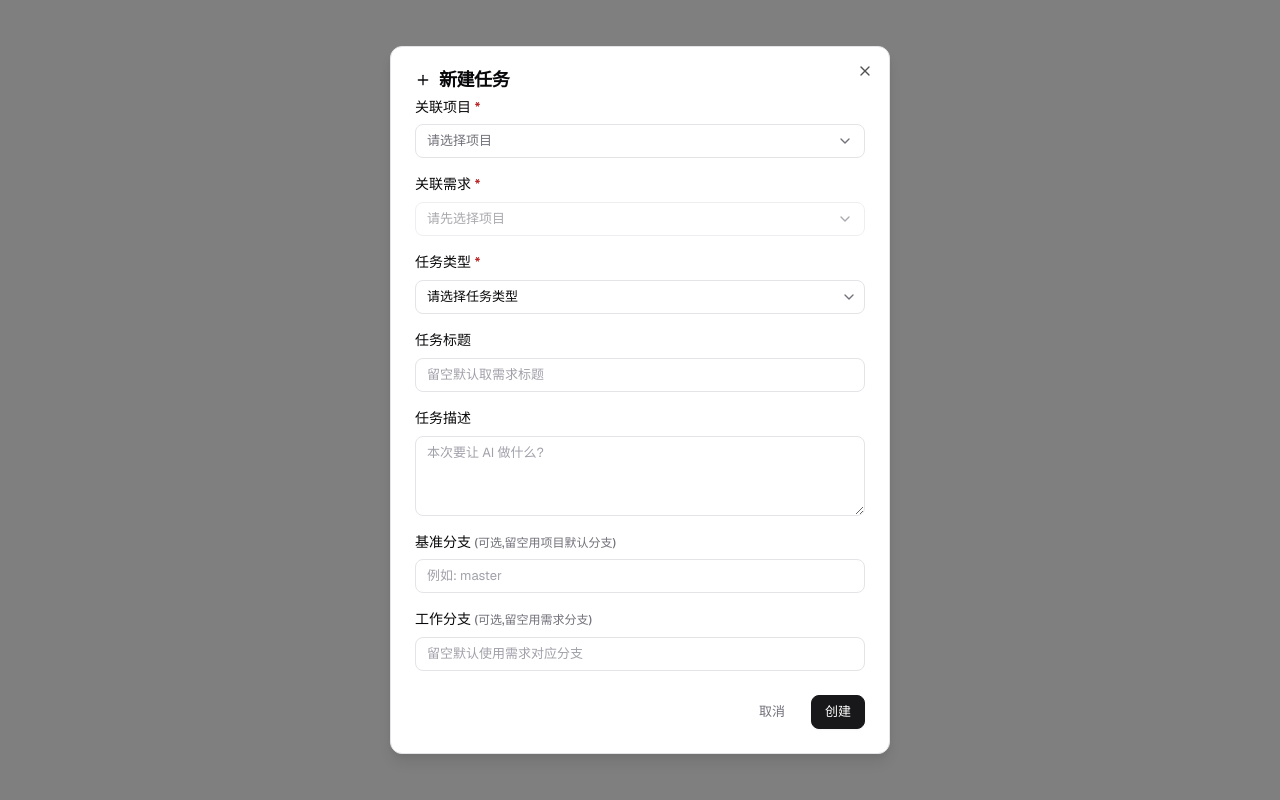
it: R3.2 可搜索的项目与需求选择器(TaskCreateDialog) › 判据1 项目选择器:输入关键词 debounce 后走后端搜索接口并更新列表
Expected: the text "关联项目" is shown, [415,98,474,116]
Expected: the text "请选择项目" is shown, [427,131,492,151]
Click the button "请选择项目": (460, 141) [415,124,865,158]
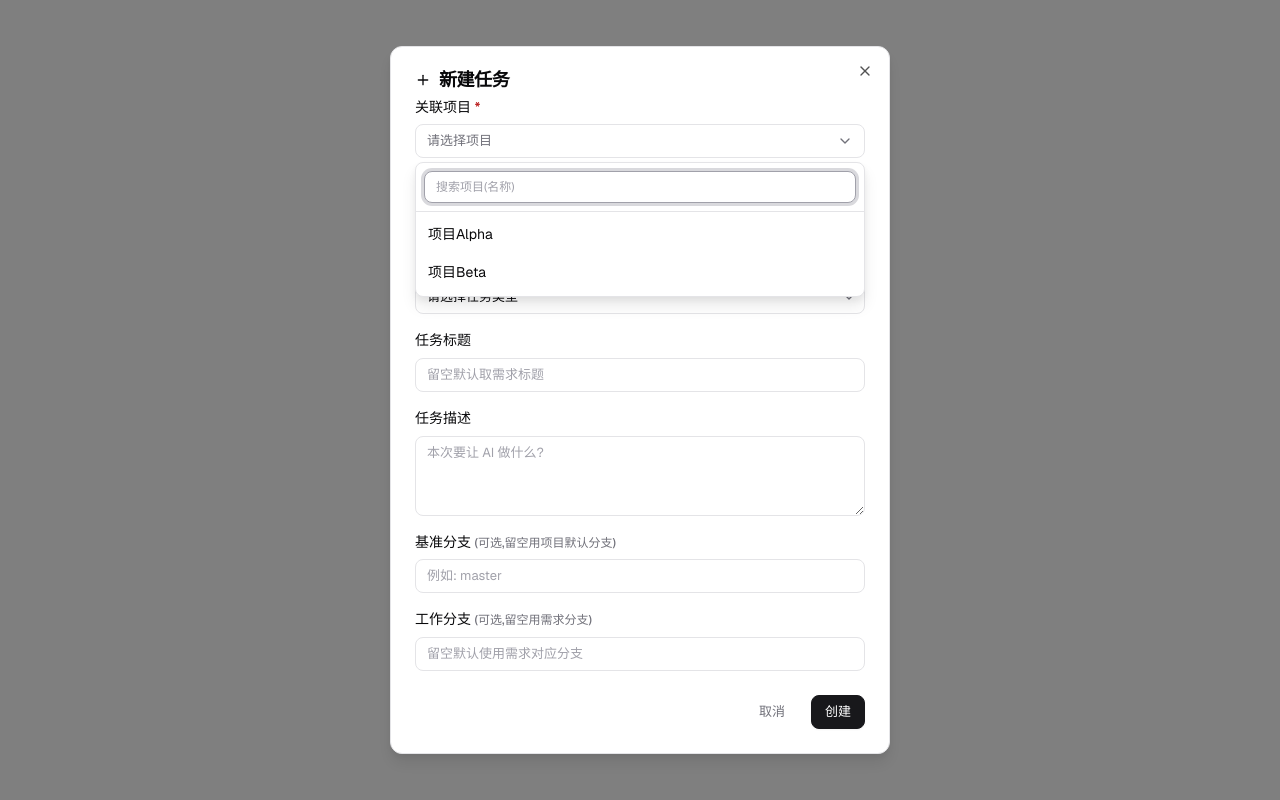
Expected: the field with placeholder "搜索项目(名称)" is shown
Expected: the text "项目Alpha" is shown, [428,225,493,243]
In the field with placeholder "搜索项目(名称)": (640, 187) [424,171,856,203], type "Alpha"
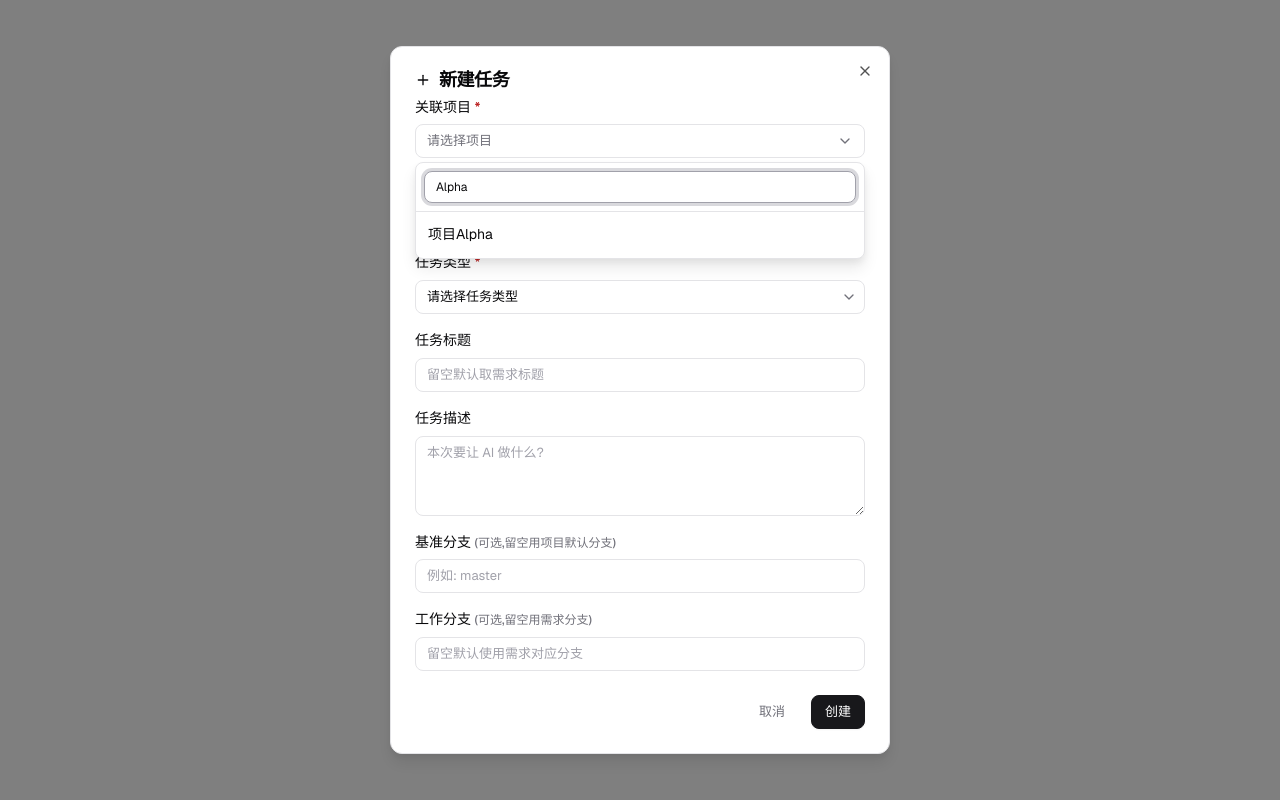
Expected: the text "项目Alpha" is shown, [428,225,493,243]
Expected: the button "项目Beta" is gone
